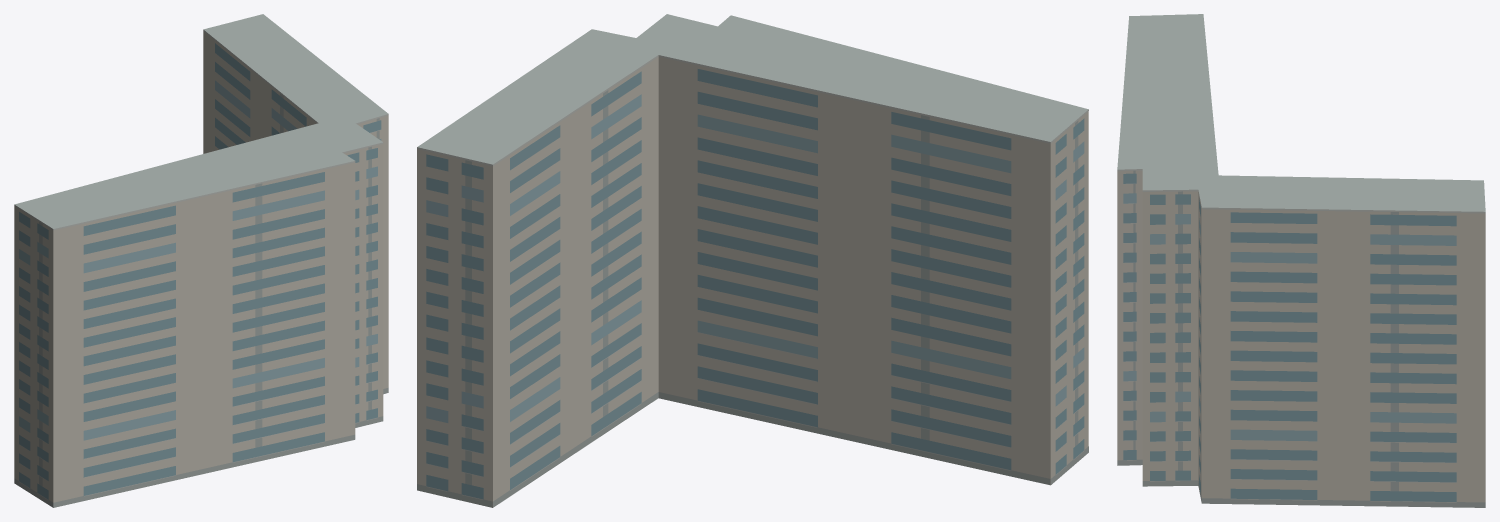
Rendered from residential-aaa3eaa0-5b19-4af1-a33b-02c14289f03d.glb.
3 views of the same model, side by side, from view 1: azimuth 30°, elevation 25°; view 2: azimuth 150°, elevation 25°; view 3: azimuth 270°, elevation 25° (orthographic). The views are drawn at different scales.
Visible parts, largest first — view 1: residential-aaa3eaa0-5b19-4af1-a33b-02c14289f03d.tmp; view 2: residential-aaa3eaa0-5b19-4af1-a33b-02c14289f03d.tmp; view 3: residential-aaa3eaa0-5b19-4af1-a33b-02c14289f03d.tmp.
Part boxes in pixels (box(x1,y1,x2,y2)): residential-aaa3eaa0-5b19-4af1-a33b-02c14289f03d.tmp: box(14, 14, 388, 507); residential-aaa3eaa0-5b19-4af1-a33b-02c14289f03d.tmp: box(417, 14, 1088, 507); residential-aaa3eaa0-5b19-4af1-a33b-02c14289f03d.tmp: box(1117, 14, 1485, 507).
Size of the model in its own units: 65.56 by 45.75 by 51.6.
